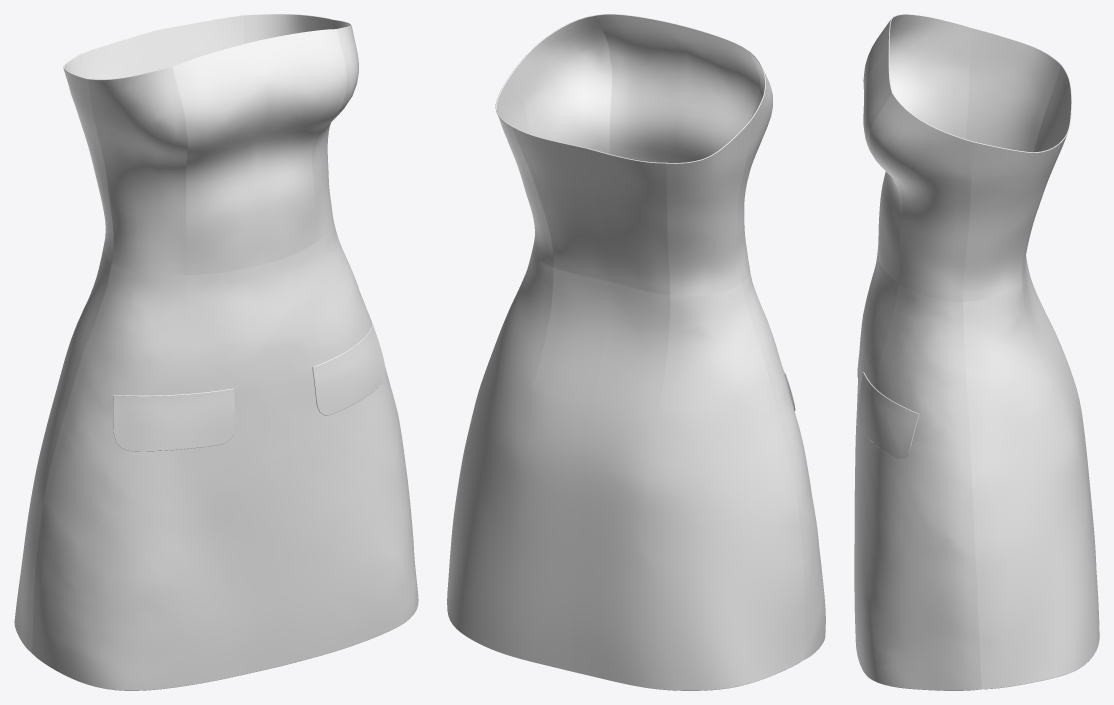
The model's file is STRAPLESS MINI DRESS_gltf_thick.glb.
The picture shows the model from 3 angles, left to right: view 1: azimuth 30°, elevation 25°; view 2: azimuth 150°, elevation 25°; view 3: azimuth 270°, elevation 25°; orthographic projection. The views are drawn at different scales.
Parts seen in each view (by area): view 1: Cloth (×11); view 2: Cloth (×11); view 3: Cloth (×10).
Boxes of the visible parts, x1=… form: Cloth (×11): x1=14, y1=14, x2=418, y2=690; Cloth (×11): x1=447, y1=15, x2=825, y2=690; Cloth (×10): x1=854, y1=14, x2=1099, y2=690.
Size of the model in its own units: 41.23 by 65.96 by 25.5.
Materials: 1 (1 with a texture image).
